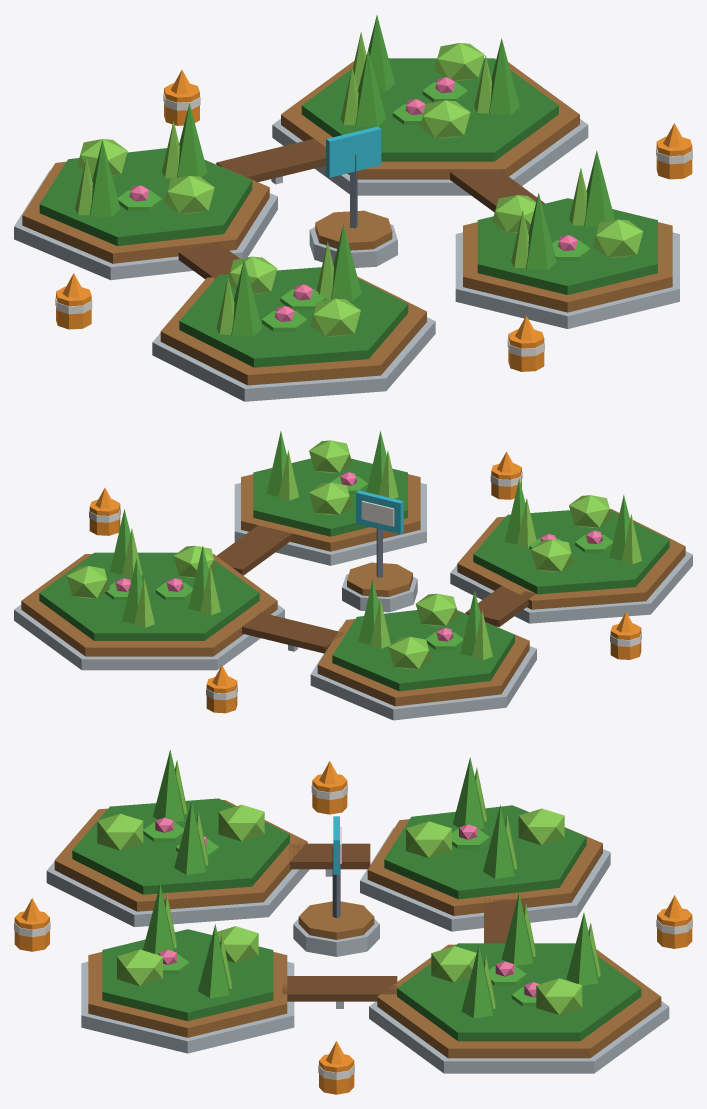
File: floating_garden.glb
The picture shows the model from 3 angles, top to bottom: view 1: azimuth 30°, elevation 25°; view 2: azimuth 150°, elevation 25°; view 3: azimuth 270°, elevation 25°; orthographic projection. The views are drawn at different scales.
Parts seen in each view (by area): view 1: corpo; view 2: corpo; view 3: corpo.
Boxes of the visible parts, left/top/right/bottom form: corpo: left=14, top=15, right=692, bottom=401; corpo: left=14, top=431, right=692, bottom=720; corpo: left=14, top=750, right=692, bottom=1094.
Size of the model in its own units: 5.17 by 0.9 by 5.02.
